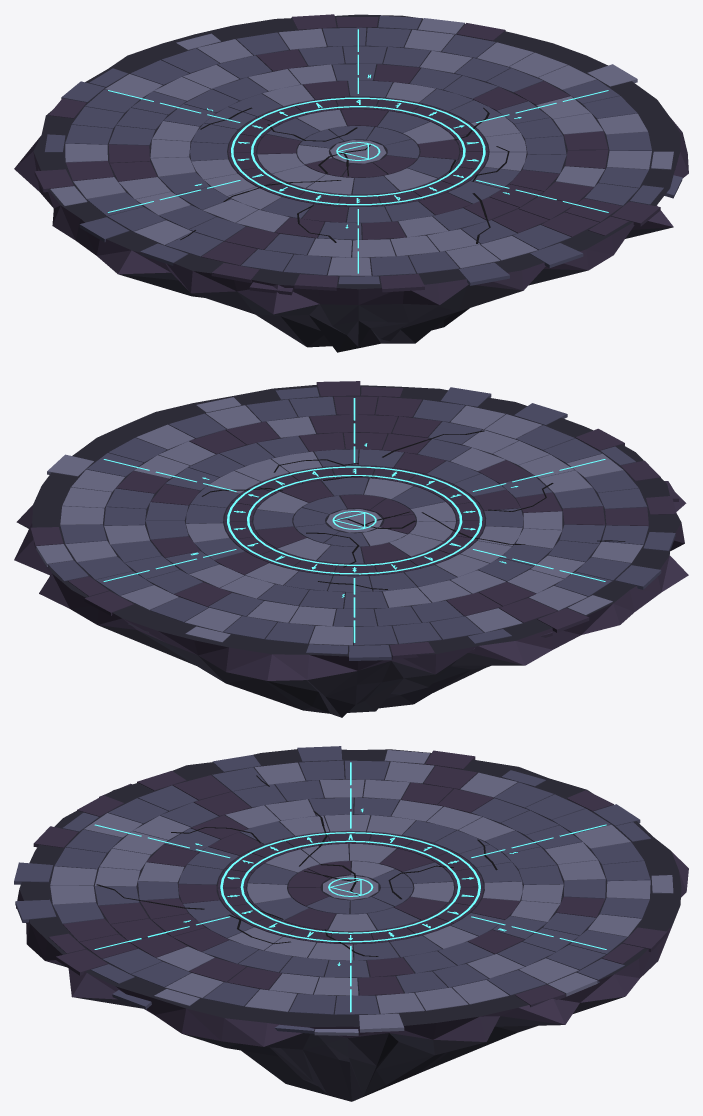
The model's file is Totenreich_Floor.fbx.
3 renders of one model, top to bottom at view 1: azimuth 30°, elevation 25°; view 2: azimuth 150°, elevation 25°; view 3: azimuth 270°, elevation 25°, orthographic. The views are drawn at different scales.
Visible parts, largest first — view 1: Totenreich_Floor; view 2: Totenreich_Floor; view 3: Totenreich_Floor.
Boxes of the visible parts, left/top/right/bottom form: Totenreich_Floor: left=14, top=14, right=688, bottom=352; Totenreich_Floor: left=14, top=381, right=688, bottom=717; Totenreich_Floor: left=14, top=746, right=688, bottom=1101.
Size of the model in its own units: 36.3 by 12.05 by 36.32.
